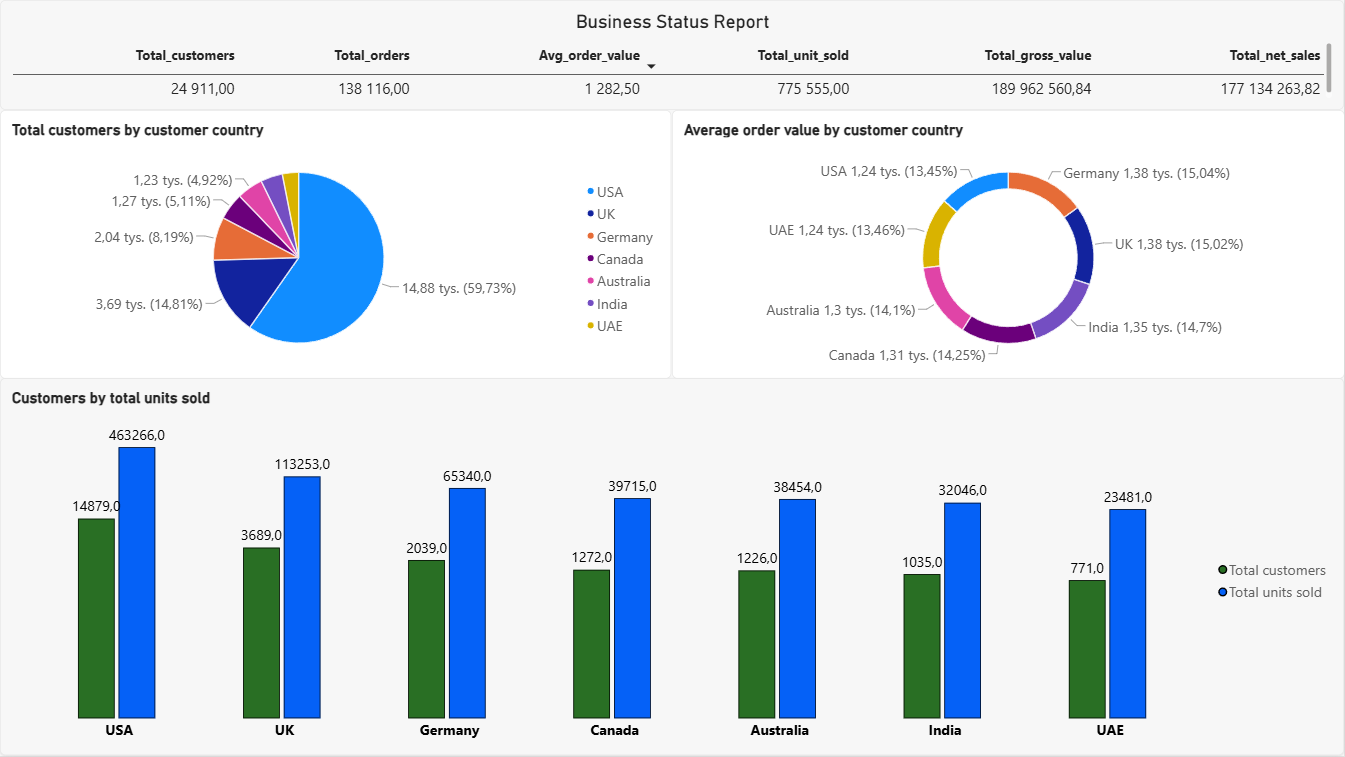

The page's visual inventory and layout, read from the dashboard file:
{"tool":"powerbi","page":{"name":"Strona 1","canvas":[1920,1080],"ordinal":0},"visuals":[{"type":"tableEx","title":"Business Status Report","fields":{"Values":["Sum(vw_exec_kpi_summary_202609261036.total_customers)","Sum(vw_exec_kpi_summary_202609261036.total_orders)","Sum(vw_exec_kpi_summary_202609261036.avg_order_value)","Sum(vw_exec_kpi_summary_202609261036.total_unit_sold)","Sum(vw_exec_kpi_summary_202609261036.total_gross_value)","Sum(vw_exec_kpi_summary_202609261036.total_net_sales)"]},"box":[0,0,1920,156.7],"z":0},{"type":"donutChart","title":"Average order value by customer country","fields":{"Category":["vw_customer_performance_202609261037.customer_country"],"Y":["Sum(vw_customer_performance_202609261037.average_order_value)"]},"box":[959.4,156.5,960.9,384.1],"z":1},{"type":"pieChart","title":"Total customers by customer country","fields":{"Category":["vw_customer_performance_202609261037.customer_country"],"Y":["Sum(vw_customer_performance_202609261037.customers)"]},"box":[0,156.5,959.4,384.1],"z":2},{"type":"clusteredColumnChart","title":"Customers by total units sold","fields":{"Category":["vw_customer_performance_202609261037.customer_country"],"Y":["Sum(vw_customer_performance_202609261037.customers)","Sum(vw_customer_performance_202609261037.total_units_sold)"]},"box":[0,540.6,1920.3,539.1],"z":3}]}

Visuals, with their boxes in screenshot pixels (x1, y1, x2, y2), scaled from the page's 1920x1080 canvas onto the 1345x757 screenshot:
"Business Status Report" tableEx: detection(0, 0, 1344, 110)
"Average order value by customer country" donutChart: detection(672, 110, 1344, 379)
"Total customers by customer country" pieChart: detection(0, 110, 672, 379)
"Customers by total units sold" clusteredColumnChart: detection(0, 379, 1344, 756)
